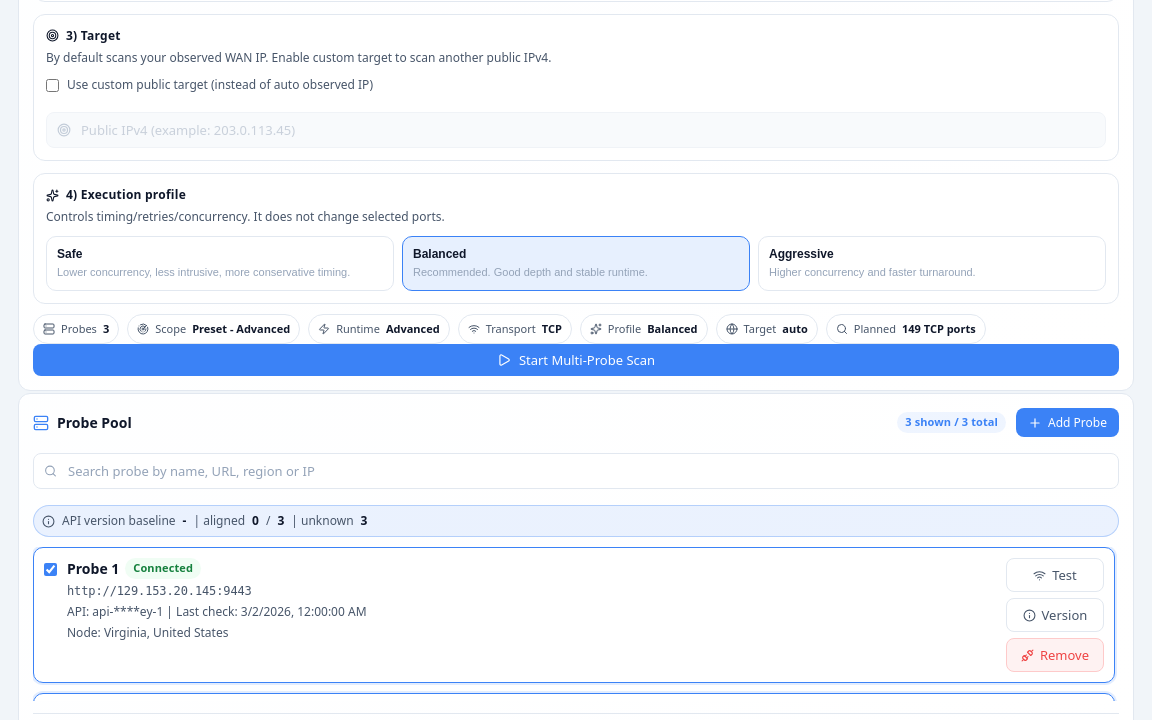
WanProbe scan flow › aggregates unique open ports across multiple probes instead of summing duplicates
The width and height of the screenshot is (1152, 720).
(page scrolled)
Expected: the text "3 shown / 3 total" is shown, [897,412,1006,432]
Click the button "Start Multi-Probe Scan" at coordinates (576, 360), box [33,344,1119,376]
(page scrolled)
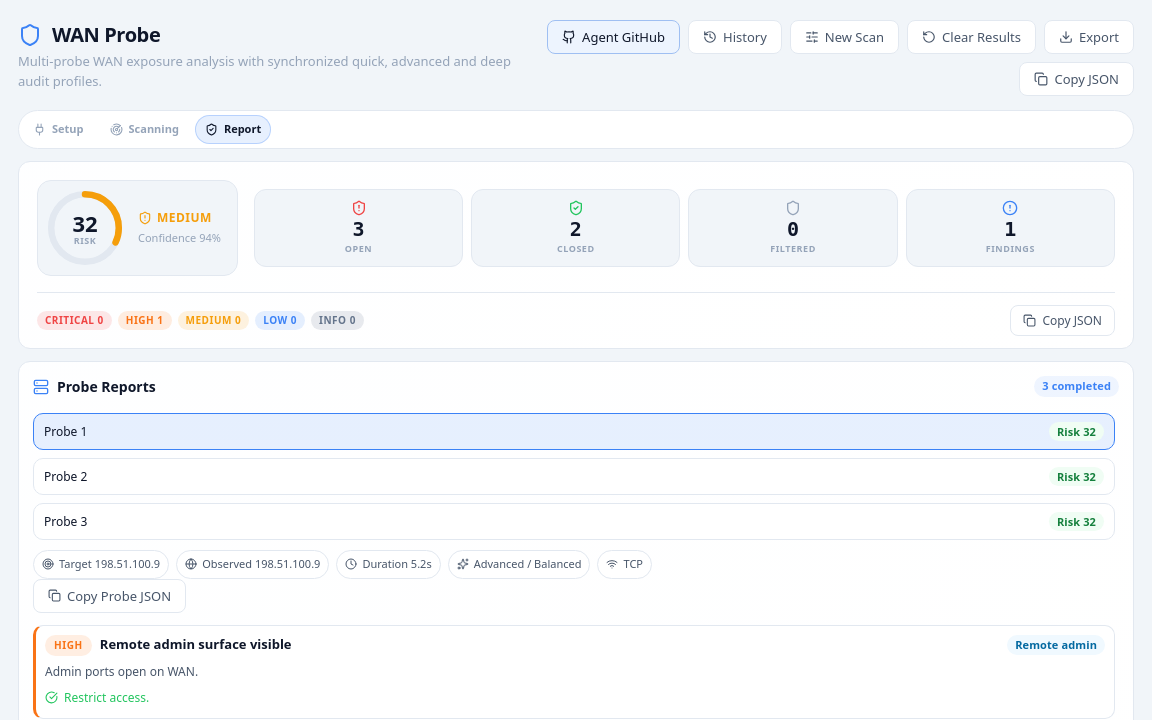
Expected: the text with class "wp2-stat-val" reads "3", [352,217,364,241]
Now the text "Probe Reports" is shown, box [33,376,156,396]
Now the text with class "wp2-stat-val" reads "1", box [1004,217,1016,241]
